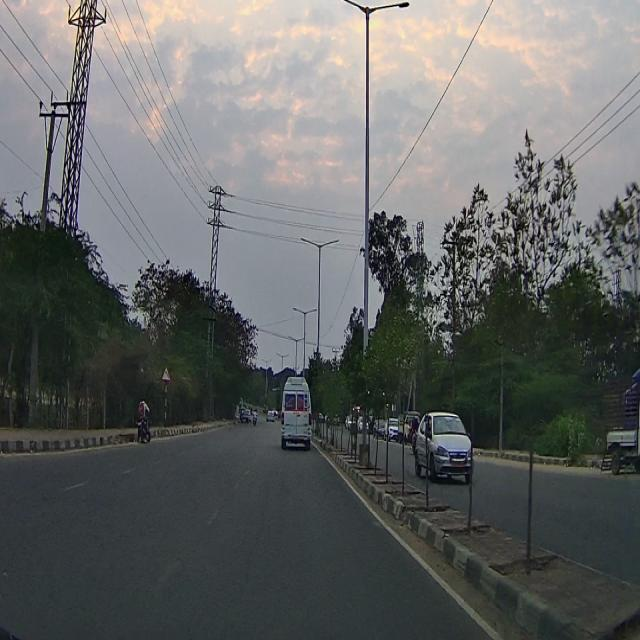left-hand-curve: (159, 364, 172, 388)
